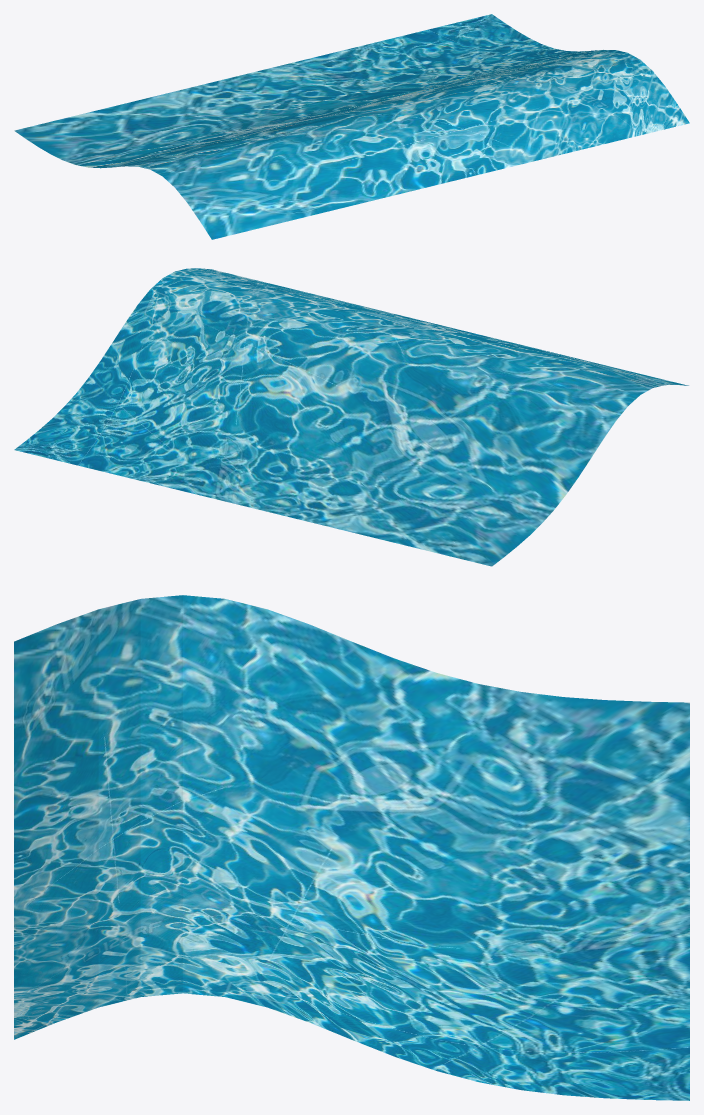
File: Olas10.obj
3 renders of one model, top to bottom at view 1: azimuth 30°, elevation 25°; view 2: azimuth 150°, elevation 25°; view 3: azimuth 270°, elevation 25°, orthographic. The views are drawn at different scales.
Visible parts, largest first — view 1: Plane; view 2: Plane; view 3: Plane.
Boxes of the visible parts, left/top/right/bottom form: Plane: left=14, top=14, right=689, bottom=239; Plane: left=14, top=268, right=688, bottom=566; Plane: left=14, top=595, right=689, bottom=1100.
Size of the model in its own units: 13.82 by 1.74 by 9.91.
